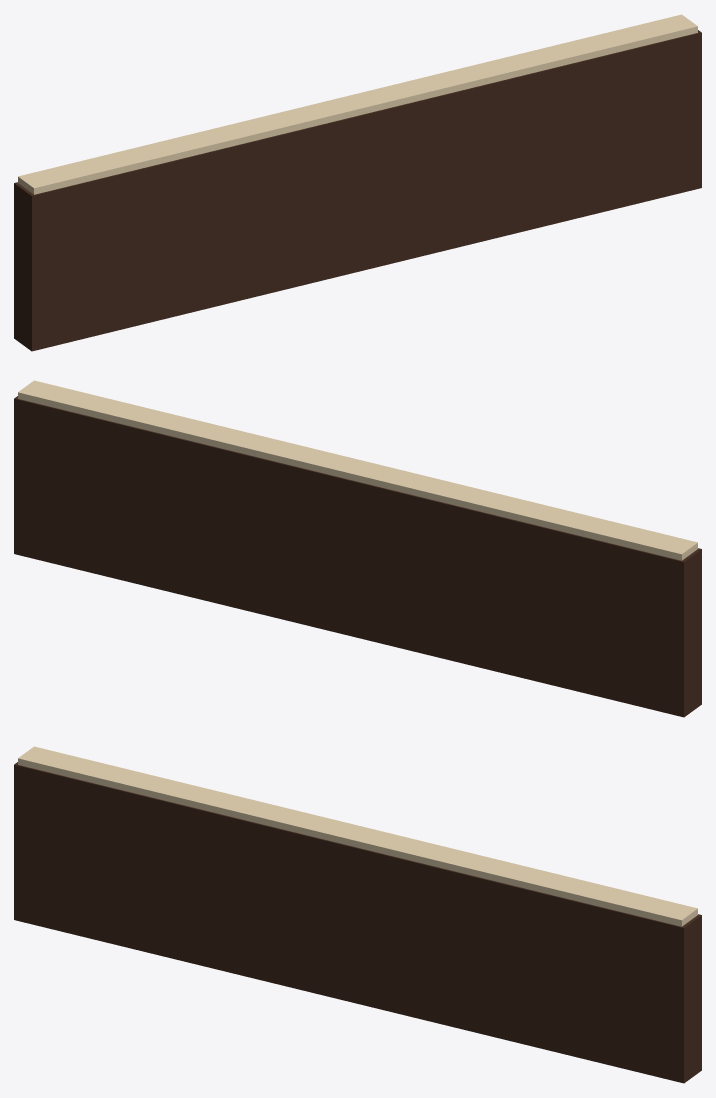
The model's file is wall.glb.
3 renders of one model, top to bottom at view 1: azimuth 30°, elevation 25°; view 2: azimuth 150°, elevation 25°; view 3: azimuth 330°, elevation 25°, orthographic.
Parts seen in each view (by area): view 1: Wall_Walnut, Wall_Ivory_Top; view 2: Wall_Walnut, Wall_Ivory_Top; view 3: Wall_Walnut, Wall_Ivory_Top.
Part boxes in pixels (x1,y1,x2,y2): Wall_Walnut: (14,30,701,351); Wall_Ivory_Top: (18,14,697,194); Wall_Walnut: (14,396,701,717); Wall_Ivory_Top: (18,380,697,560); Wall_Walnut: (14,762,701,1083); Wall_Ivory_Top: (18,746,697,926).
Size of the model in its own units: 1.95 by 0.45 by 0.09.
